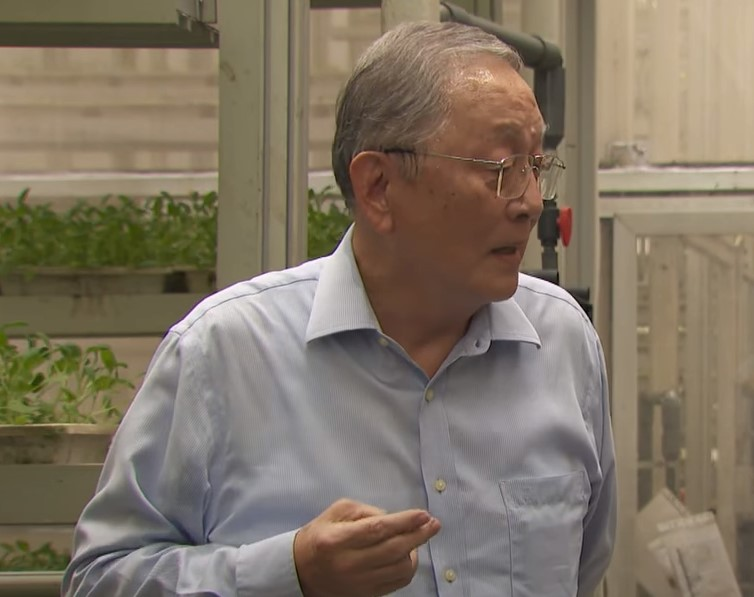face_no_mask: (345, 42, 555, 316)
